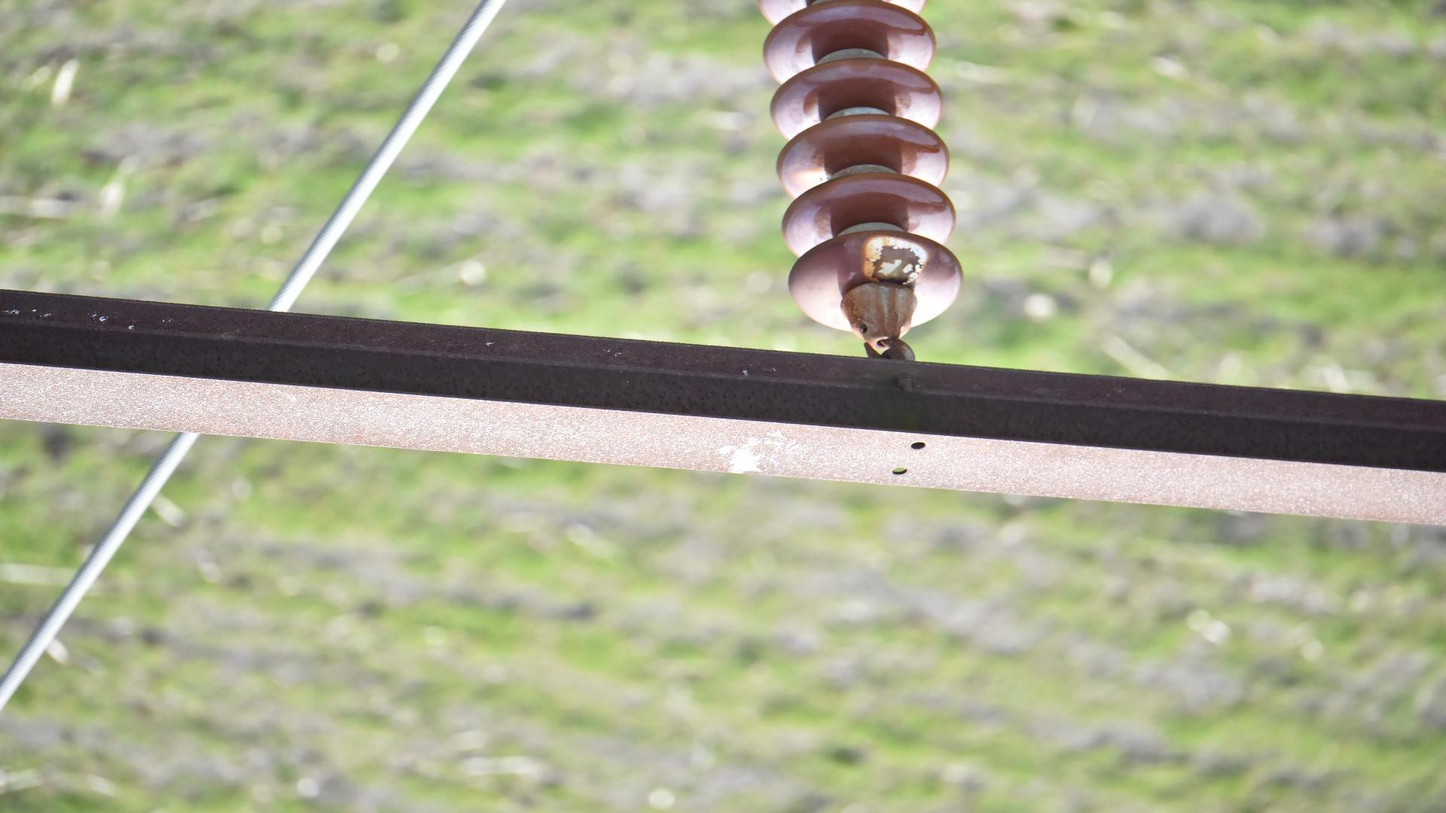insulator: (751, 1, 970, 336)
insulator_flashover: (859, 232, 930, 288), (784, 163, 834, 190)
